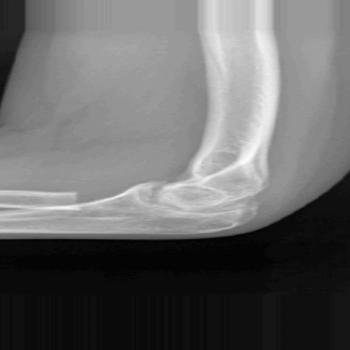Fracture: (68, 186, 123, 211)
